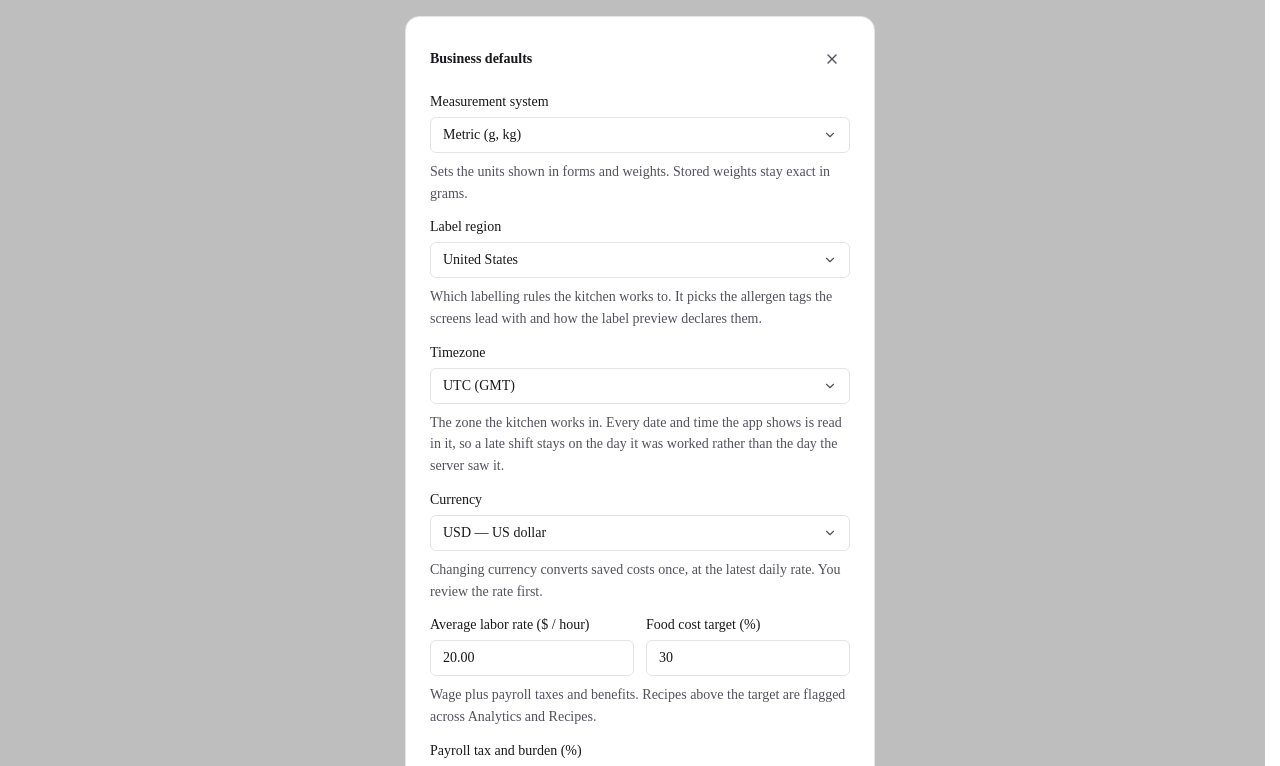
Test: saving the business defaults › stays open and says why when the save did not land
Replace the text in the field labelled "Average labor rate ($ / hour)" with "22.50": (532, 658) left=430, top=640, right=634, bottom=676
(page scrolled)
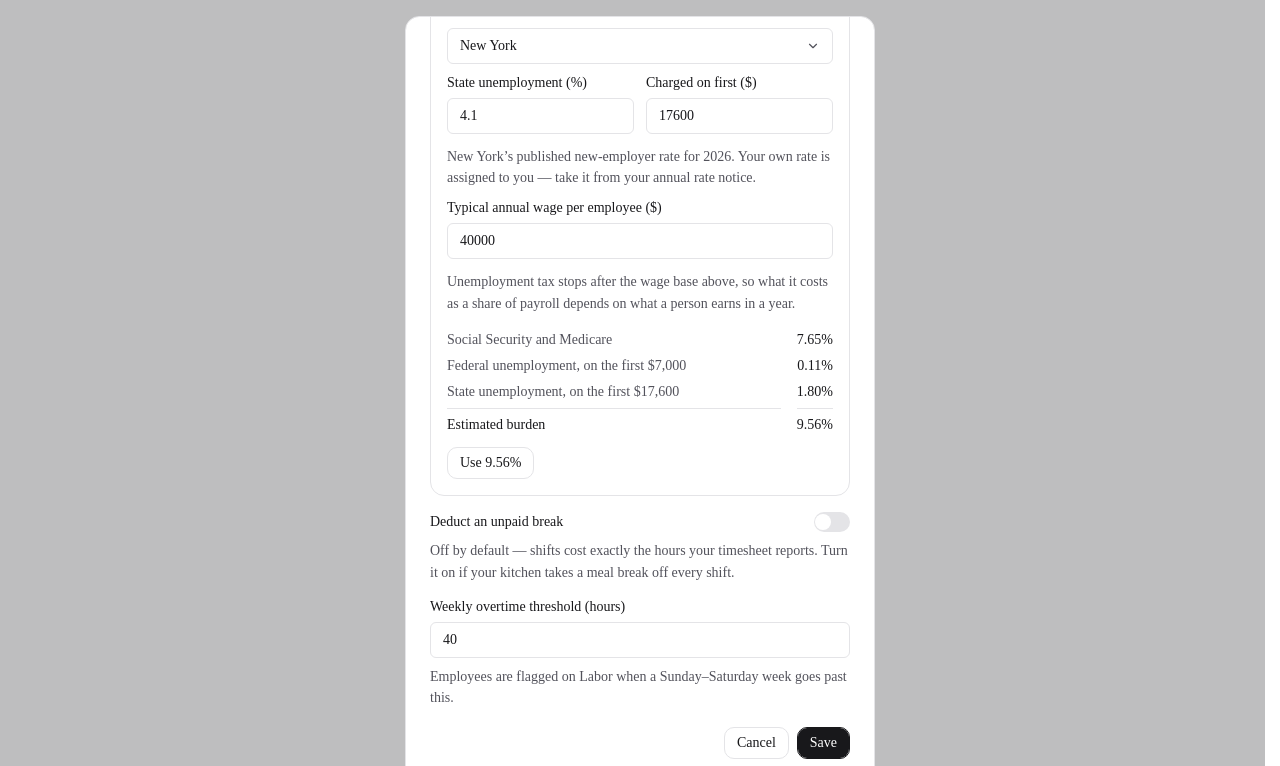
Click the button "Save": (823, 743) left=797, top=727, right=850, bottom=759
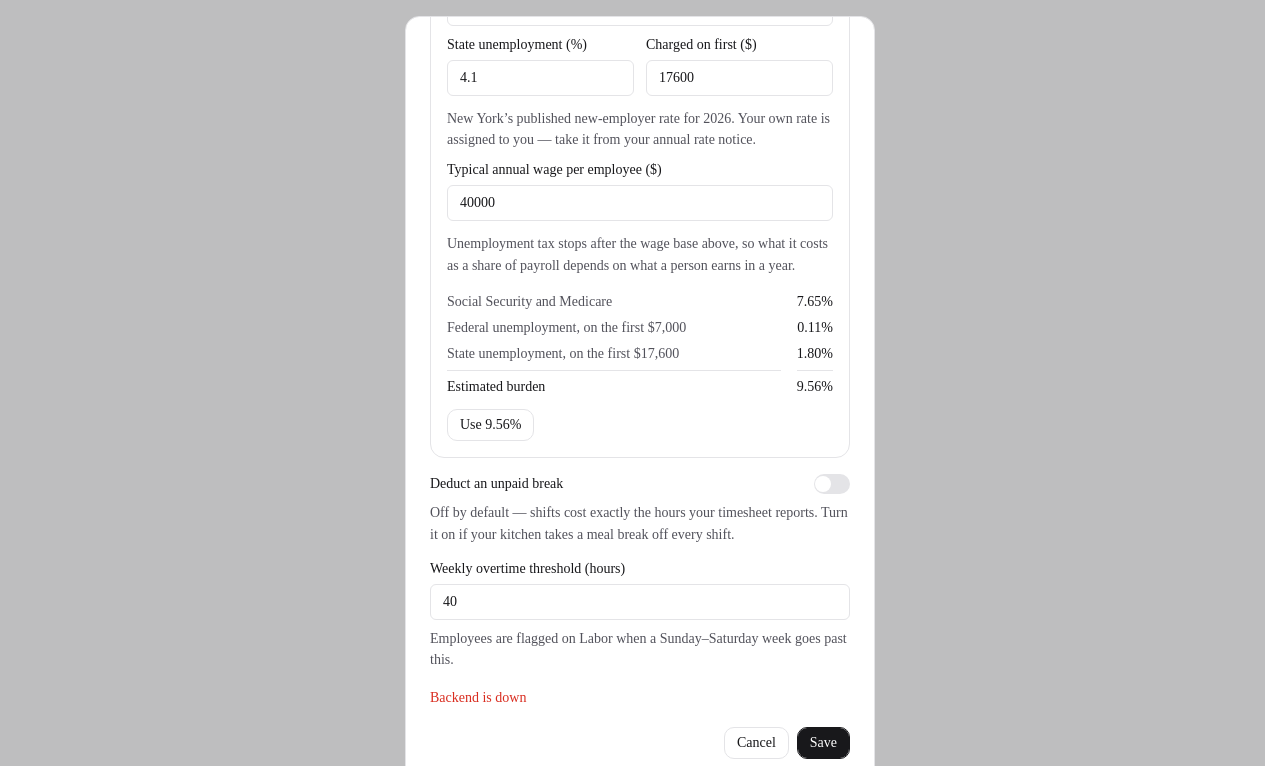
Expected: the message reads "Backend is down", left=430, top=690, right=526, bottom=705
